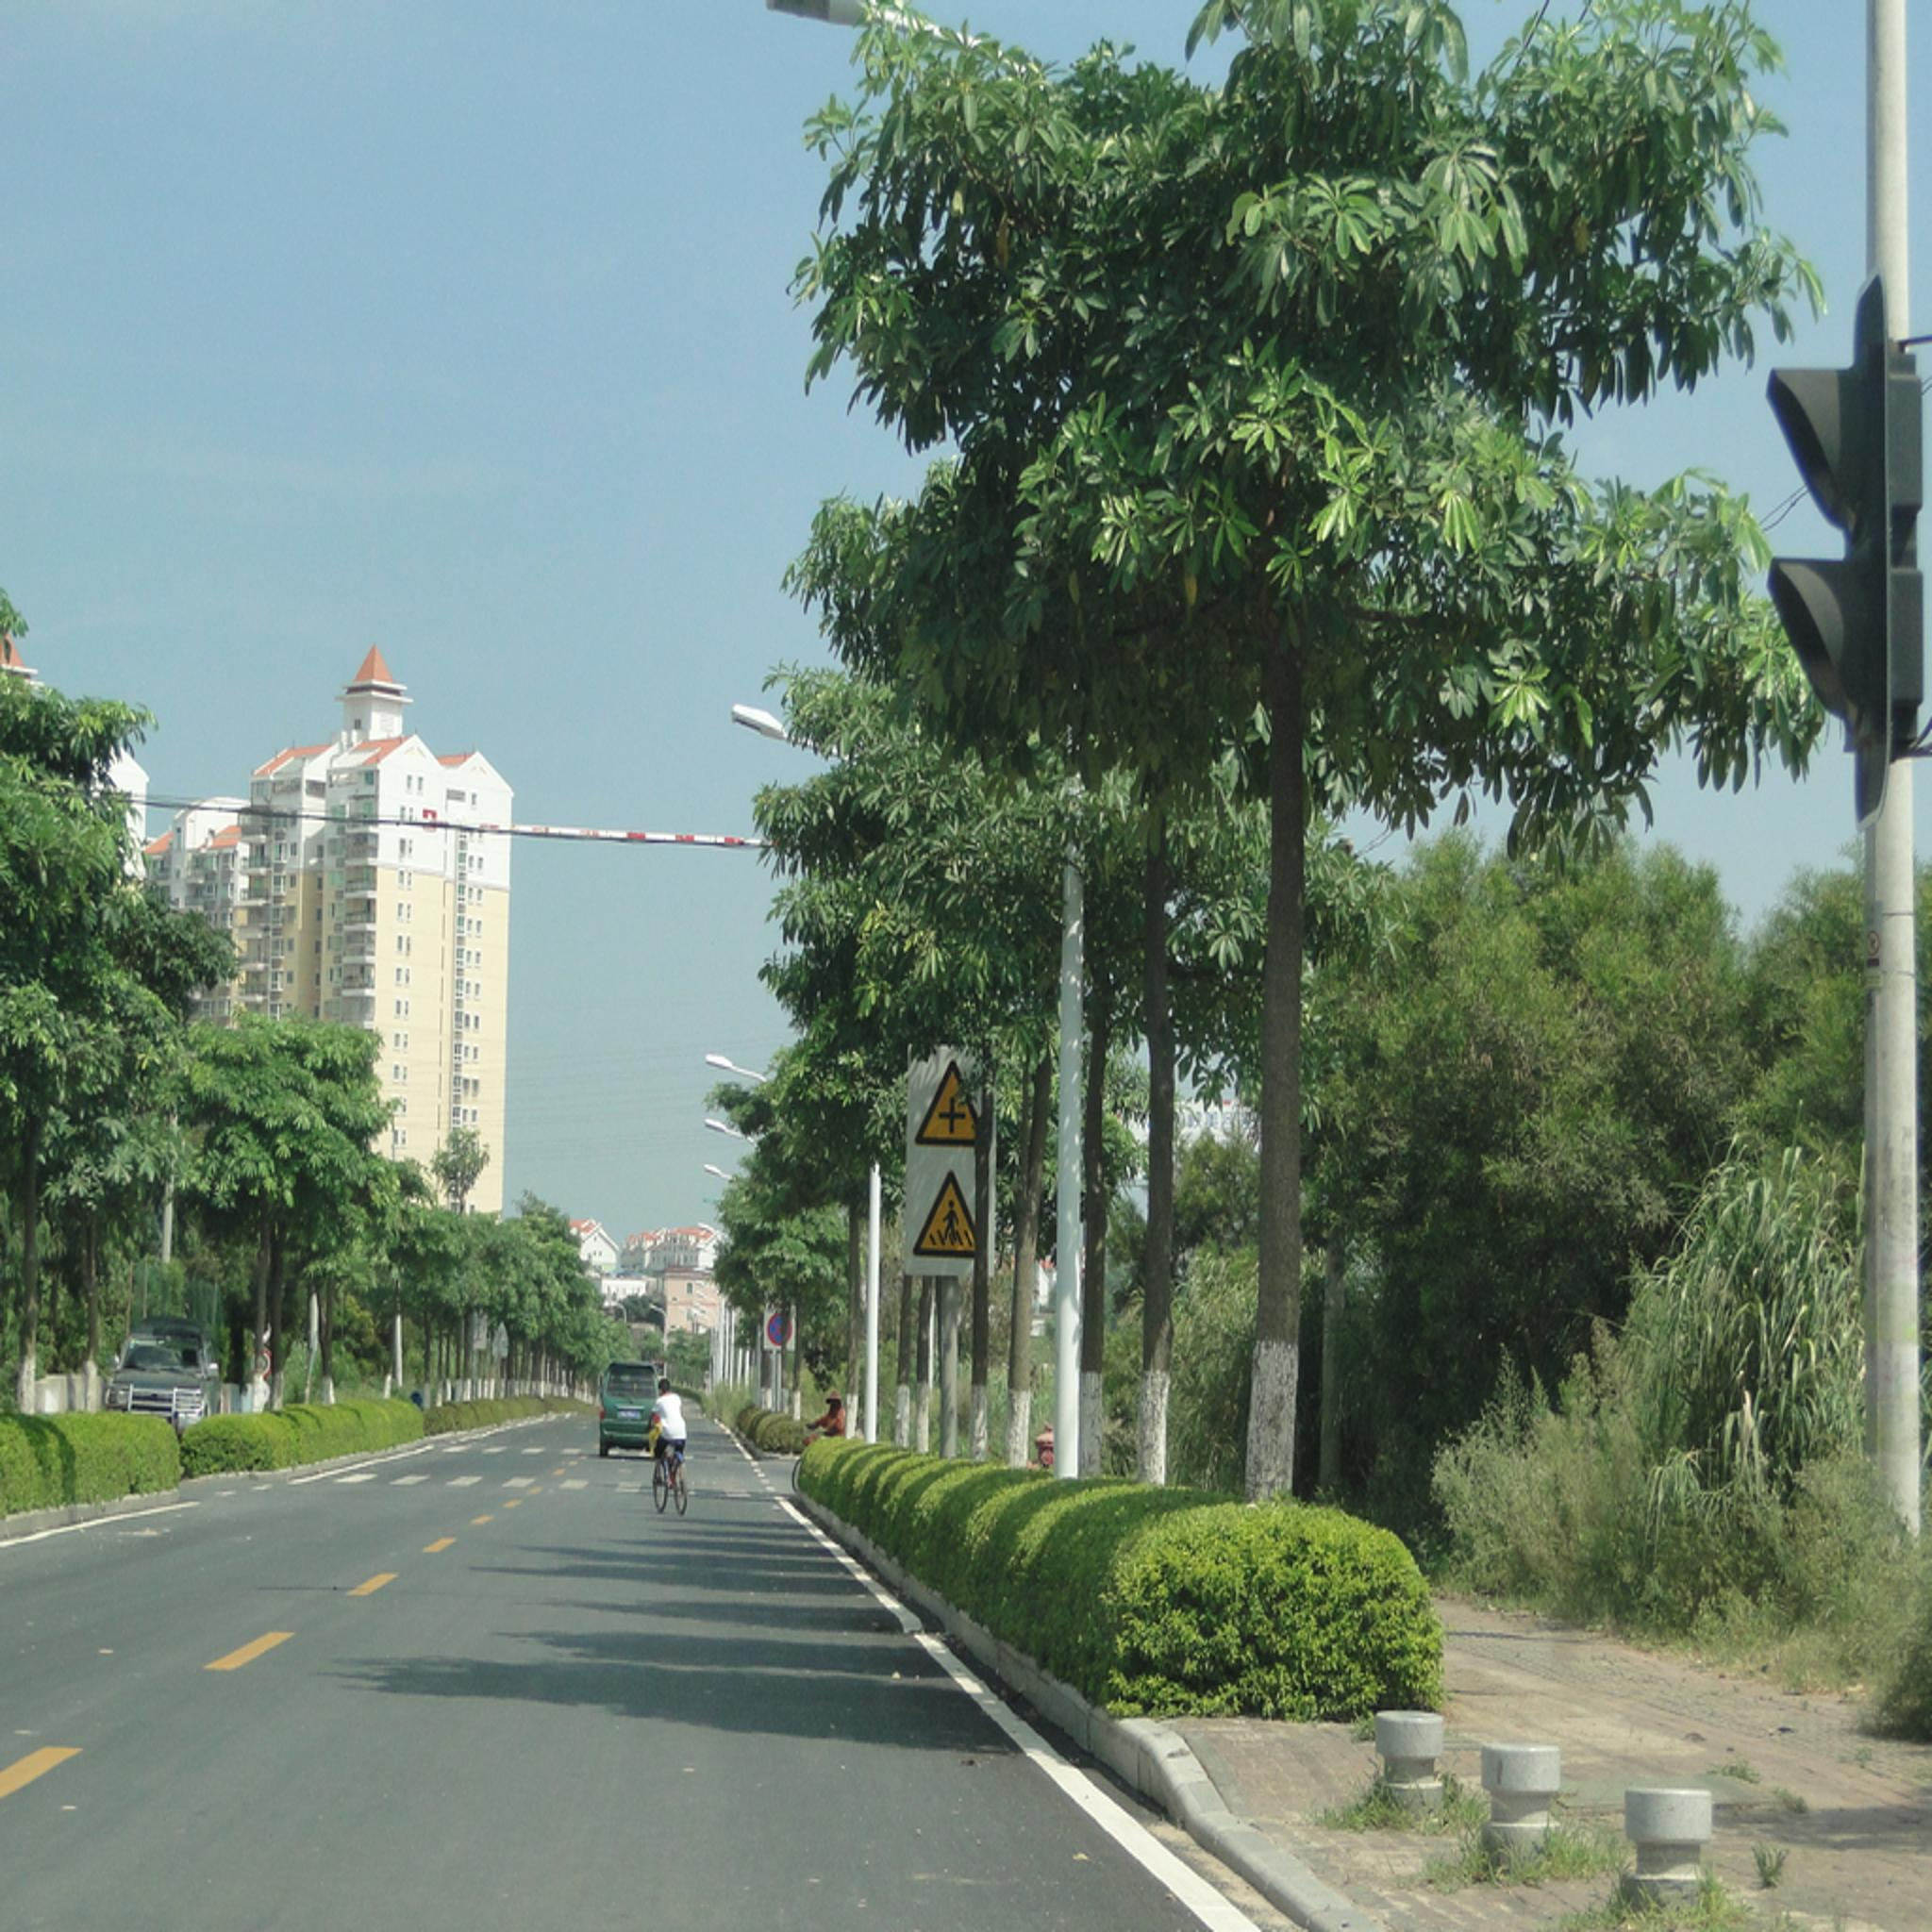pn: (763, 1304, 803, 1353)
w13: (908, 1056, 978, 1145)
w57: (911, 1161, 987, 1267)
